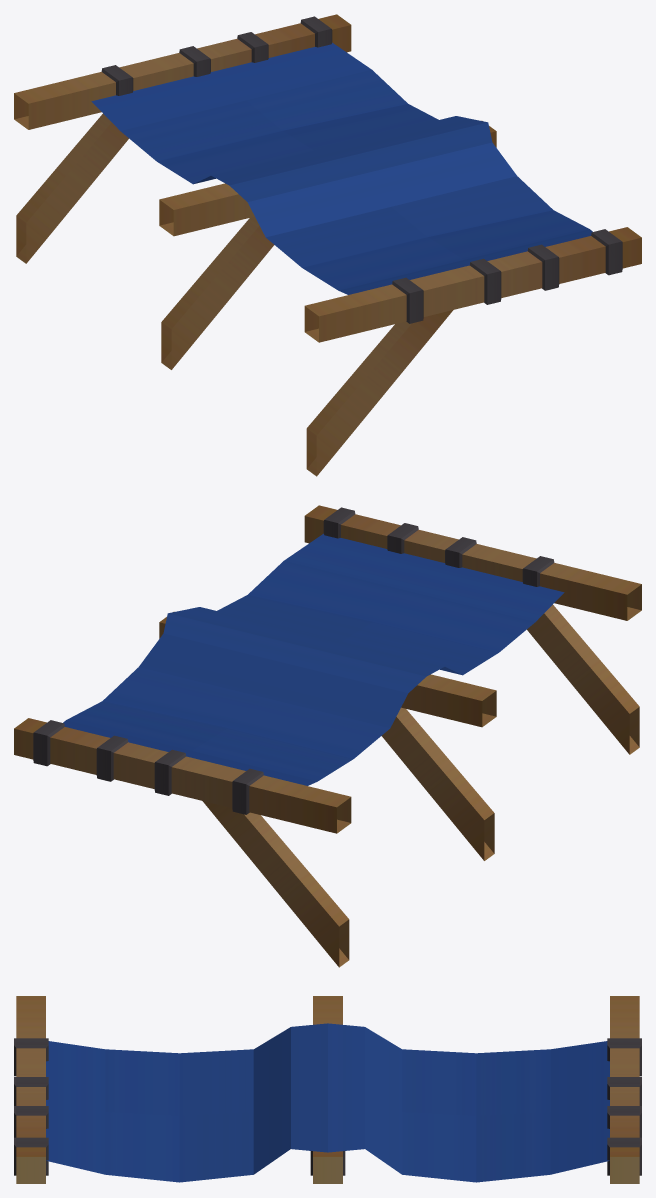
Rendered from Fabrics_2_LOD1.fbx.
3 views of the same model, one above another, from view 1: azimuth 30°, elevation 25°; view 2: azimuth 150°, elevation 25°; view 3: azimuth 270°, elevation 25° (orthographic). The views are drawn at different scales.
Parts seen in each view (by area): view 1: polySurface9748; view 2: polySurface9748; view 3: polySurface9748.
Part boxes in pixels (box(x1,y1,x2,y2)): polySurface9748: box(14, 14, 641, 476); polySurface9748: box(14, 505, 641, 967); polySurface9748: box(14, 996, 641, 1183).
Bounding box in the file's own units: 308 × 151 × 508.
